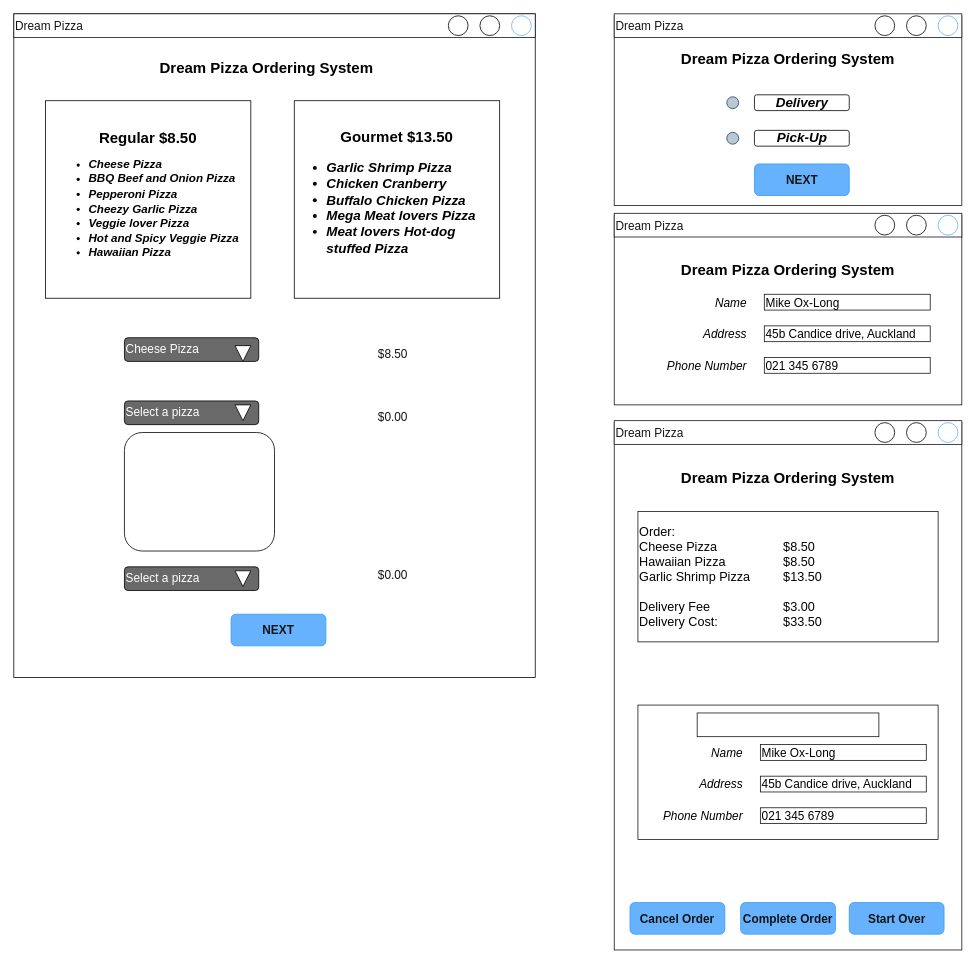
Image size: 976x964. Some labels were removed from this diagram. The shapes that lost their labels are listed below. From the top down, each one's centre as x and y in pixels, then its label:
[199,491]: Cheese Pizza BBQ Beef and Onion Pizza ...
[787,724]: Customer Details
